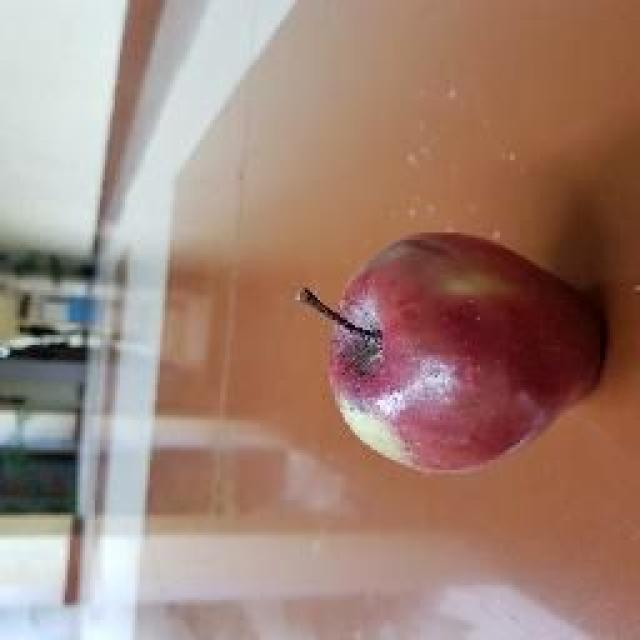Good_Apple: (295, 232, 608, 478)
